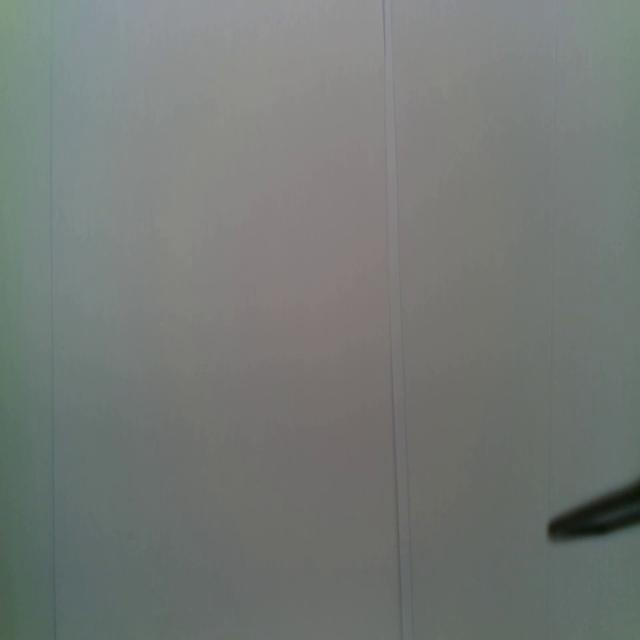crease: (381, 0, 415, 638), (49, 0, 59, 640), (543, 182, 557, 516)
